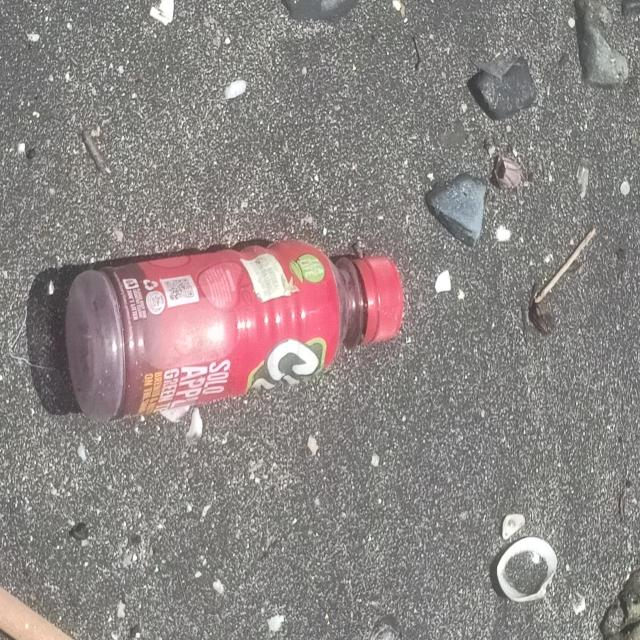litter: (64, 237, 404, 422)
